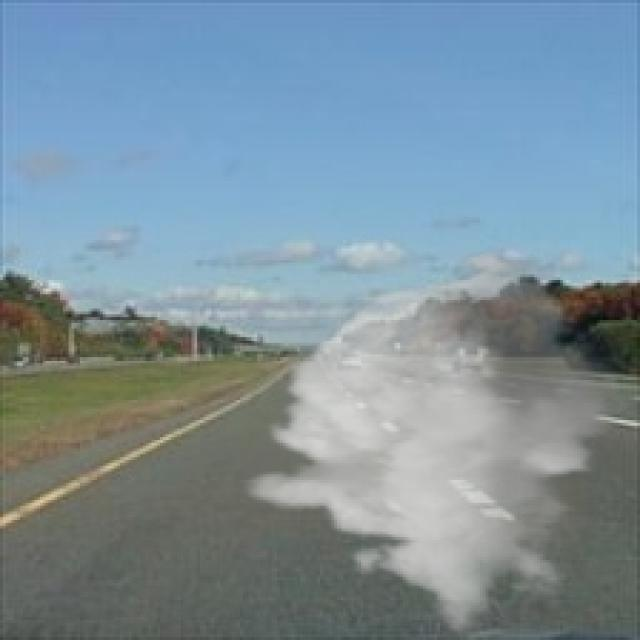smoke: (243, 246, 637, 637)
